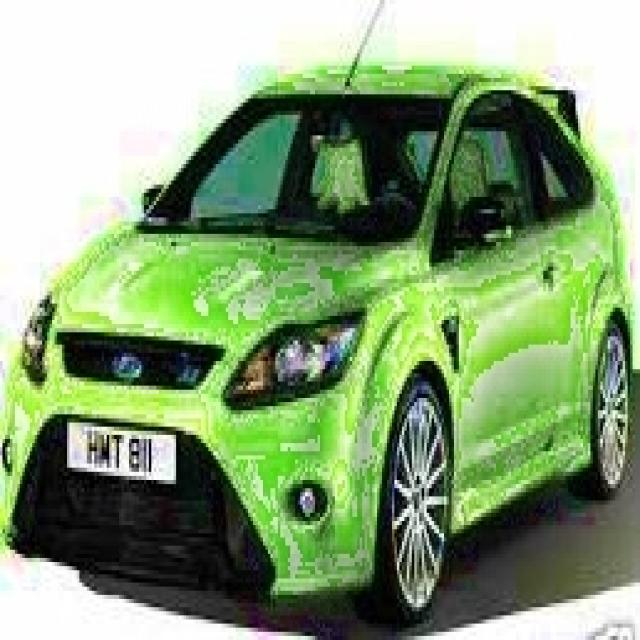green: (3, 61, 635, 632)
